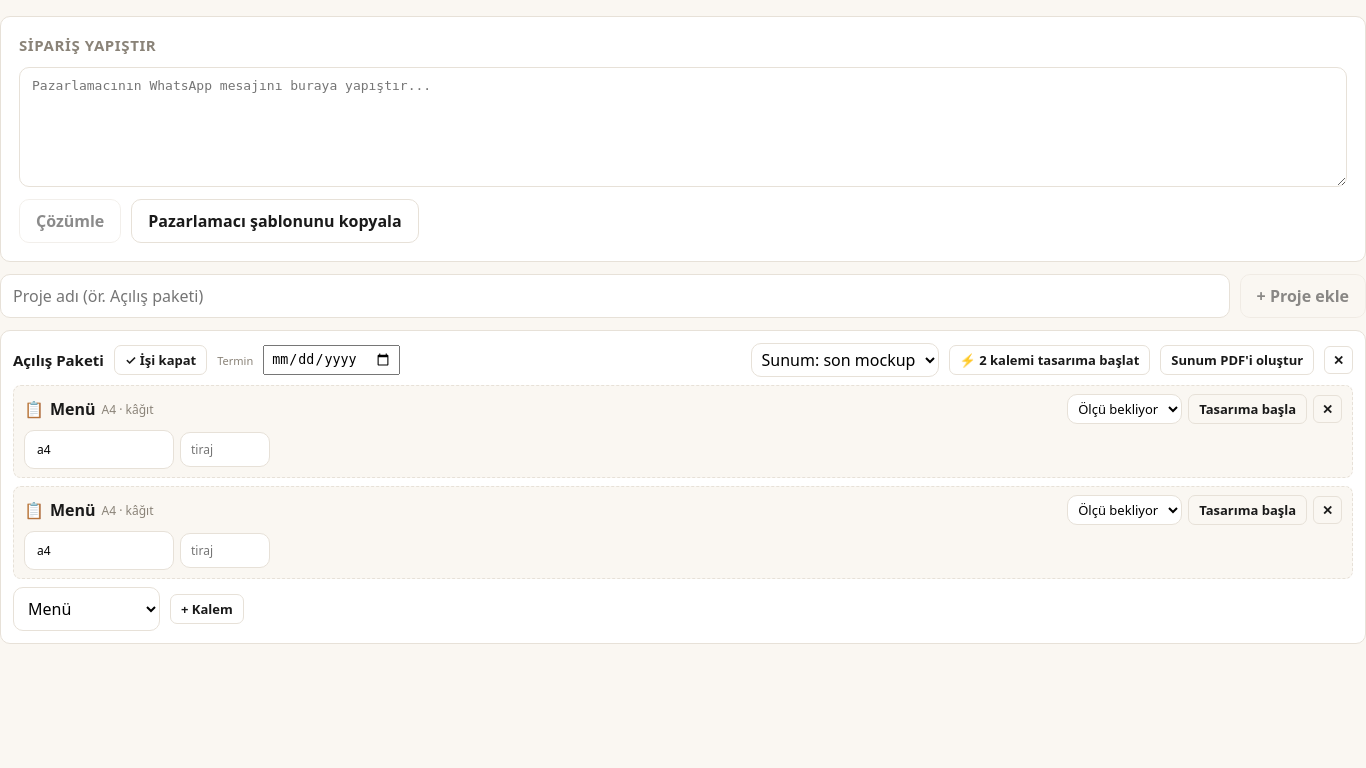
Test: toplu başlatma düğmesi › ŞABLON SORUSU TÜR BAŞINA BİR KEZ — iki menü tek cevabı paylaşır
Click the button "⚡ 2 kalemi tasarıma başlat": (1050, 360) [949,345,1150,375]
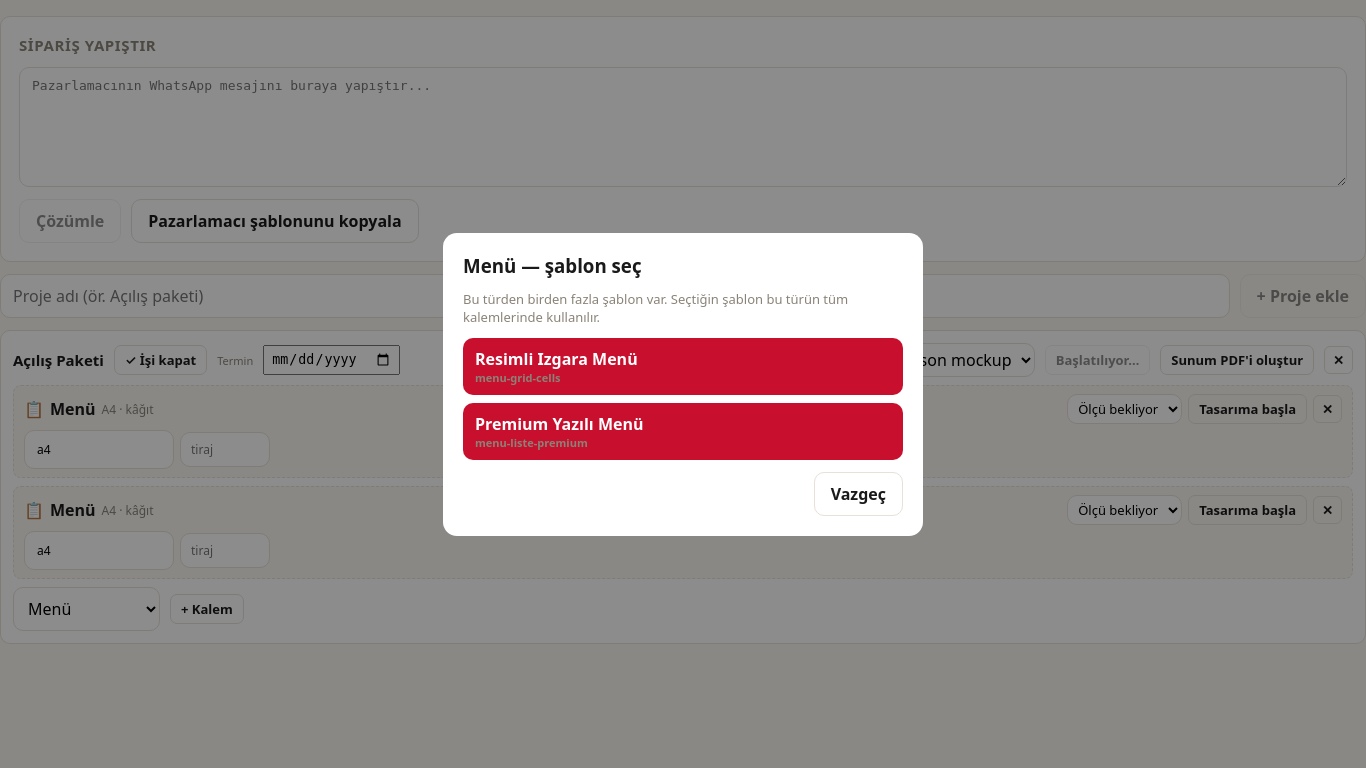
Click the button "Resimli Izgara Menü menu-grid-cells": (556, 358) [463,338,903,394]
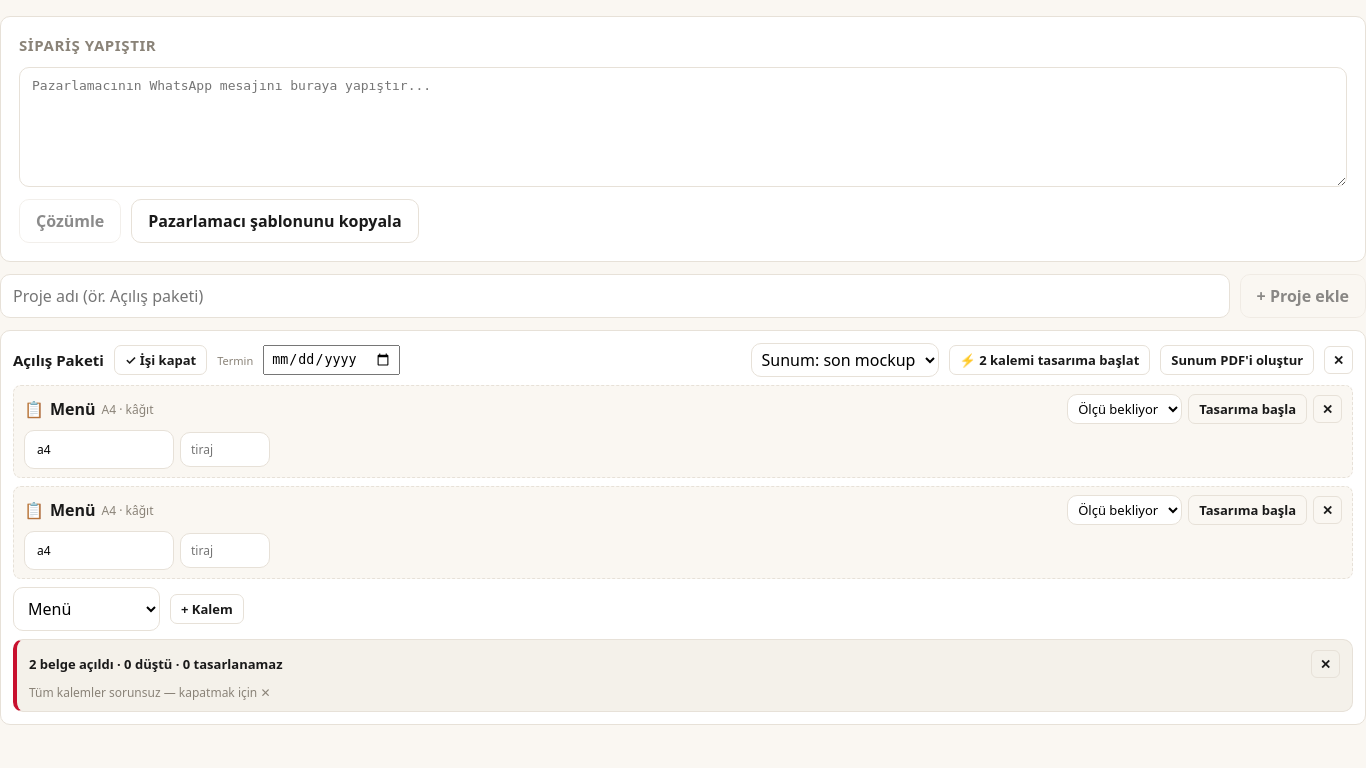
expect no elements with class "modal" are shown: met
